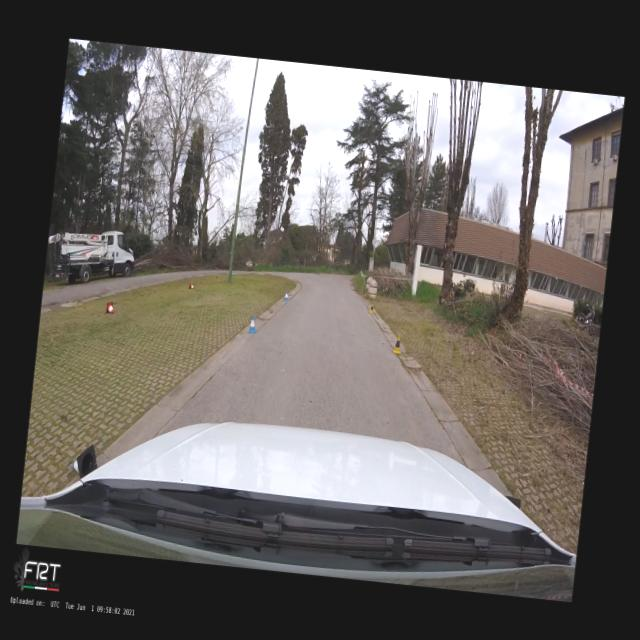blue_cone: (247, 314, 257, 334), (282, 292, 290, 302)
orange_cone: (106, 300, 114, 314), (188, 282, 195, 290)
yellow_cone: (392, 334, 402, 354), (368, 302, 373, 314)
